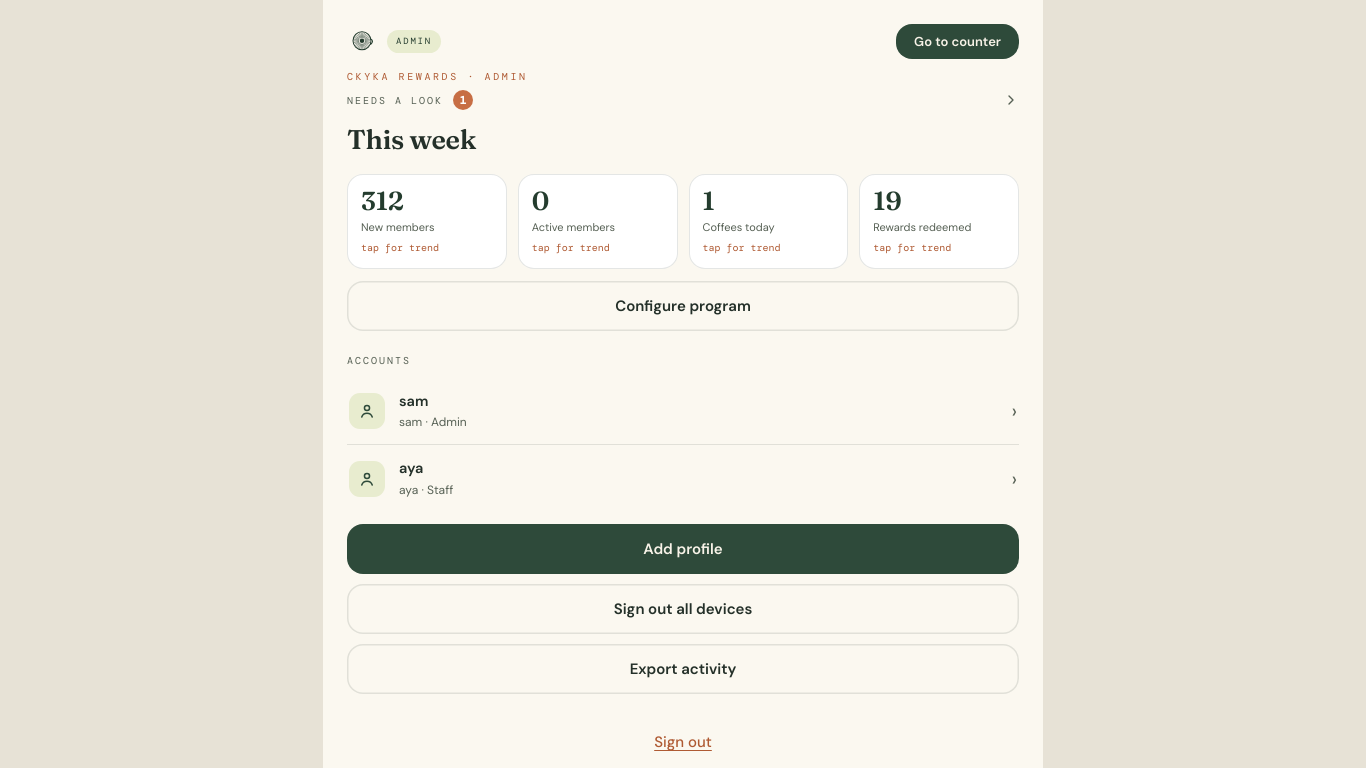
Admin screen › an account popover offers management actions but no activity history
Click the button "sam sam · admin ›".
click(367, 411)  # box [347,378,1019,444]
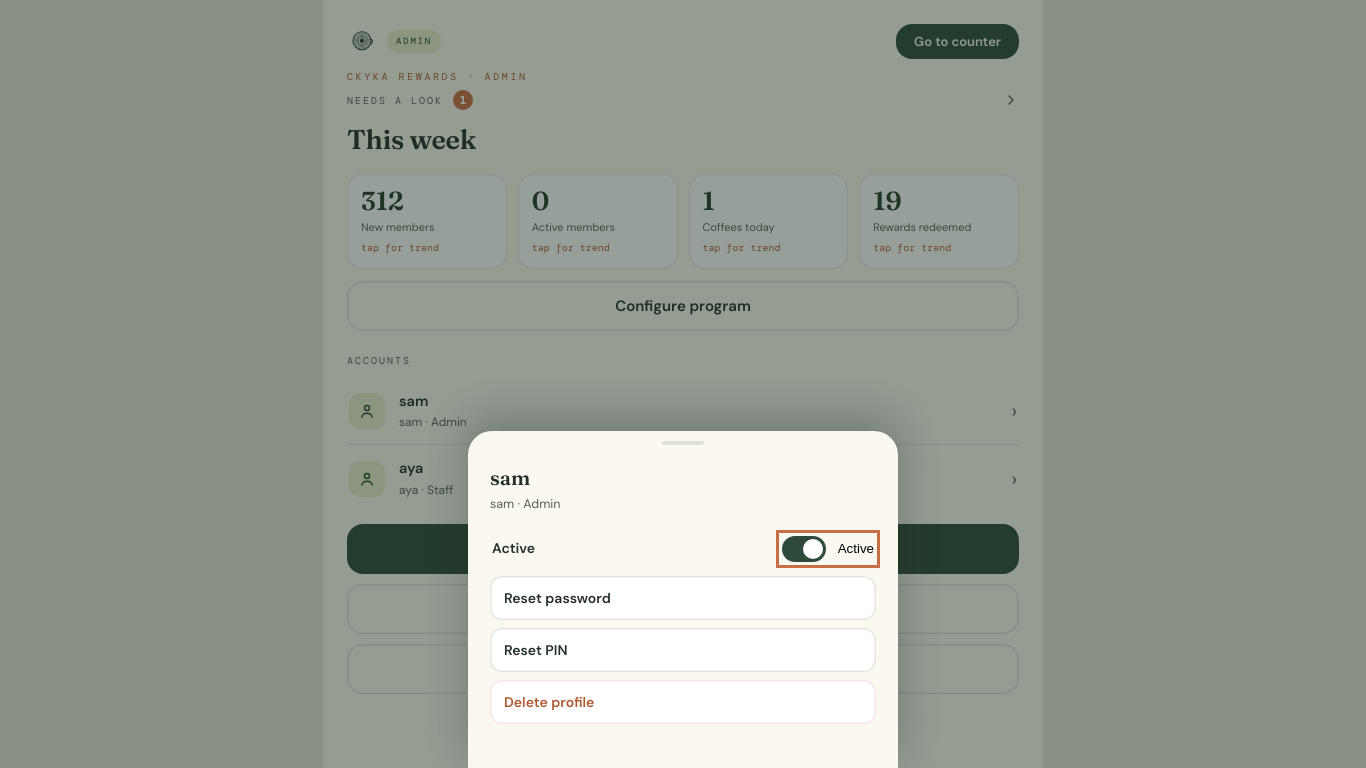
Expected: the text "Delete profile" is shown, [490,680,876,724]
